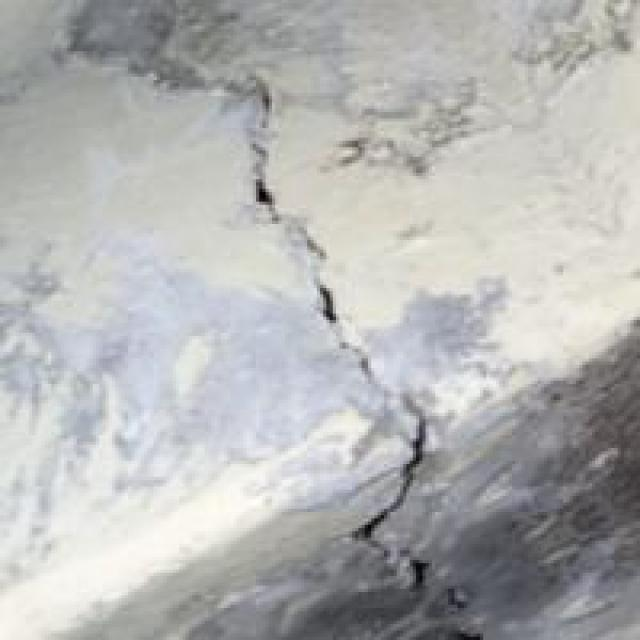crack: (173, 70, 525, 605)
